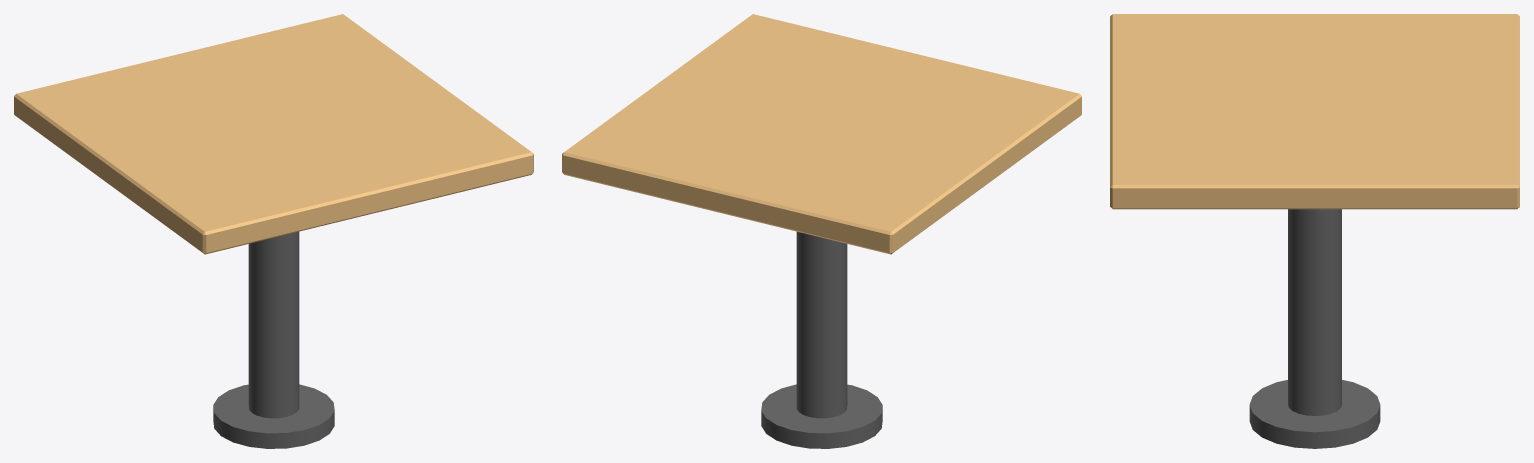
Rendered from novakfi19_Stolek1Clovek.fbx.
3 renders of one model, left to right at view 1: azimuth 30°, elevation 25°; view 2: azimuth 150°, elevation 25°; view 3: azimuth 270°, elevation 25°, orthographic. The views are drawn at different scales.
Visible parts, largest first — view 1: pCube12, pCylinder2, pCylinder1; view 2: pCube12, pCylinder2, pCylinder1; view 3: pCube12, pCylinder2, pCylinder1.
Part boxes in pixels (x1=…): pCube12: x1=14, y1=14, x2=533, y2=254; pCylinder2: x1=248, y1=231, x2=299, y2=418; pCylinder1: x1=213, y1=384, x2=334, y2=448; pCube12: x1=562, y1=14, x2=1081, y2=254; pCylinder2: x1=796, y1=231, x2=847, y2=418; pCylinder1: x1=761, y1=384, x2=882, y2=448; pCube12: x1=1110, y1=14, x2=1519, y2=209; pCylinder2: x1=1288, y1=209, x2=1341, y2=415; pCylinder1: x1=1249, y1=380, x2=1380, y2=448.
Bounding box in the file's own units: 1 × 0.8666 × 1.
